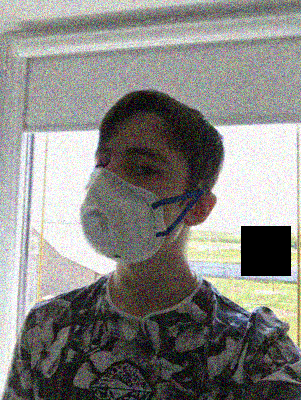with_mask: (81, 132, 176, 264)
